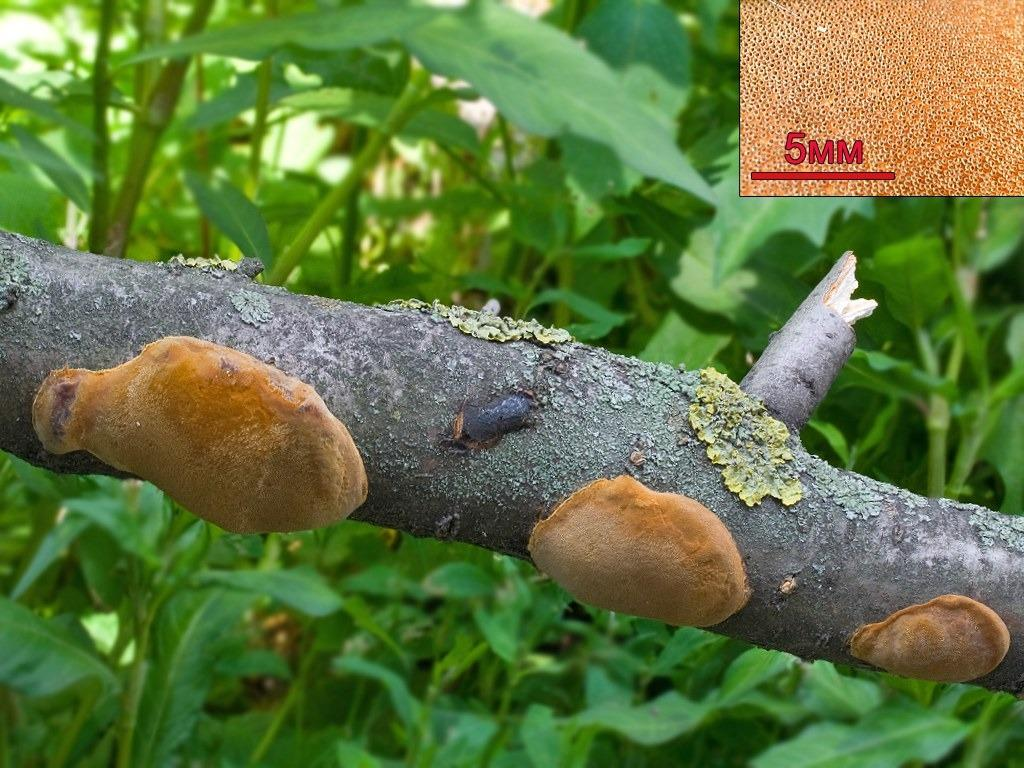Plum tinder fungus: (37, 327, 394, 572), (529, 446, 769, 654), (835, 558, 1021, 712)
